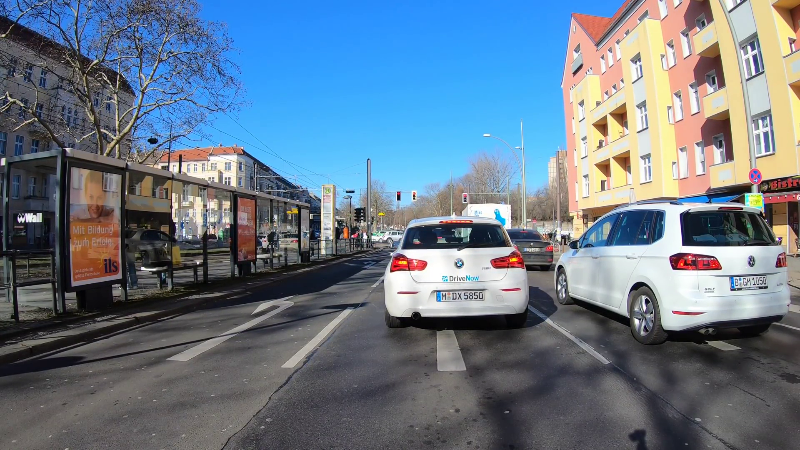Plate: (729, 272, 771, 291), (435, 288, 484, 302)
